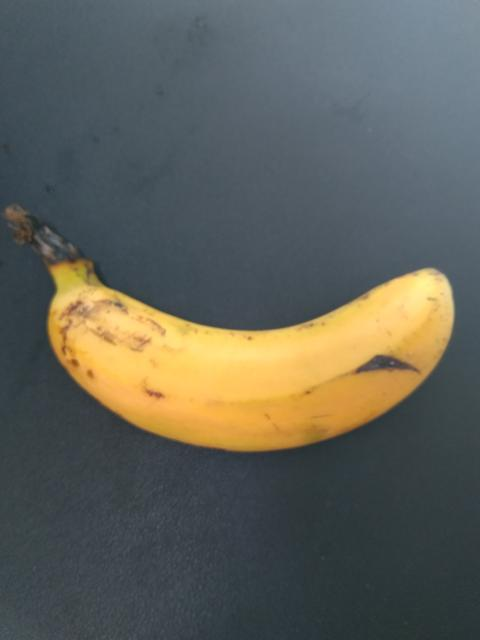ripe: (33, 233, 470, 470)
